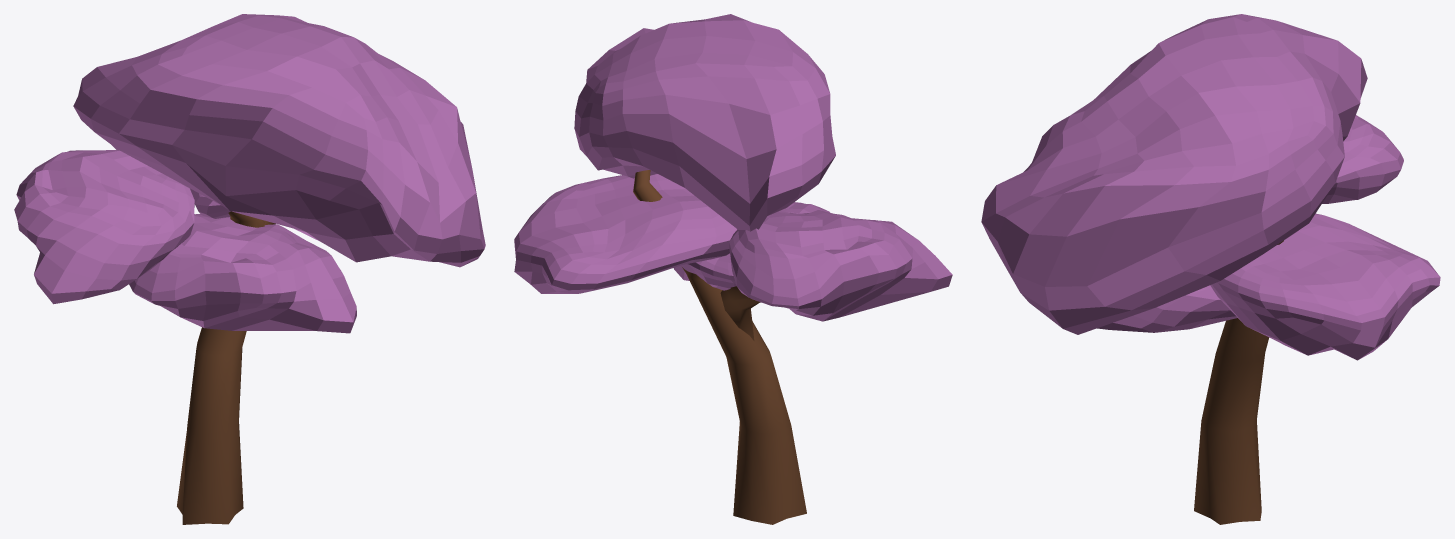
Rendered from Sakura.fbx.
3 renders of one model, left to right at view 1: azimuth 30°, elevation 25°; view 2: azimuth 150°, elevation 25°; view 3: azimuth 270°, elevation 25°, orthographic. The views are drawn at different scales.
Parts seen in each view (by area): view 1: Sakura; view 2: Sakura; view 3: Sakura.
Boxes of the visible parts, x1,y1,x2,y2 form: Sakura: [14, 14, 485, 524]; Sakura: [514, 14, 952, 524]; Sakura: [981, 14, 1440, 524].
Size of the model in its own units: 4.84 by 5.73 by 4.92.
